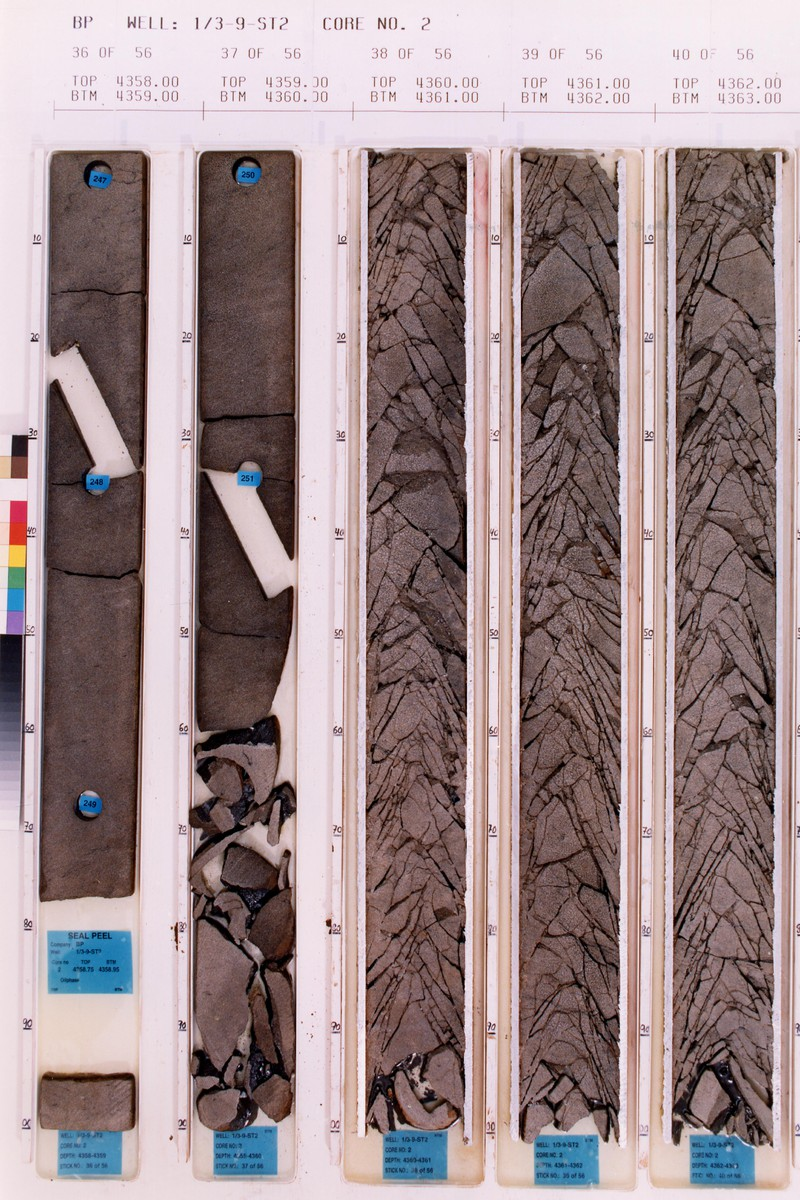core: (665, 147, 779, 1143), (191, 150, 302, 1130), (362, 148, 471, 1135), (514, 148, 621, 1140), (37, 150, 142, 908), (35, 1069, 141, 1134)
